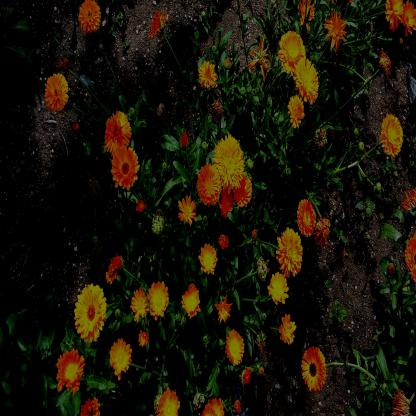marigold: (74, 284, 105, 338), (214, 134, 243, 184), (278, 228, 302, 274), (105, 112, 134, 150), (112, 150, 138, 191), (302, 347, 324, 395), (198, 163, 222, 206), (279, 32, 305, 70), (57, 352, 83, 389), (45, 72, 68, 112), (297, 62, 320, 102), (381, 113, 402, 156), (110, 340, 130, 375), (157, 386, 181, 415), (268, 272, 289, 304), (297, 198, 314, 237), (79, 0, 100, 31), (225, 330, 244, 364), (149, 282, 168, 315), (288, 96, 306, 130), (327, 14, 344, 48), (198, 59, 216, 89), (234, 176, 251, 206), (178, 195, 196, 223), (182, 286, 200, 313), (386, 0, 404, 27), (200, 244, 216, 272), (131, 291, 148, 316), (80, 395, 99, 416), (281, 315, 295, 342), (404, 3, 416, 32), (221, 189, 235, 212), (217, 298, 230, 321), (105, 264, 116, 281)
